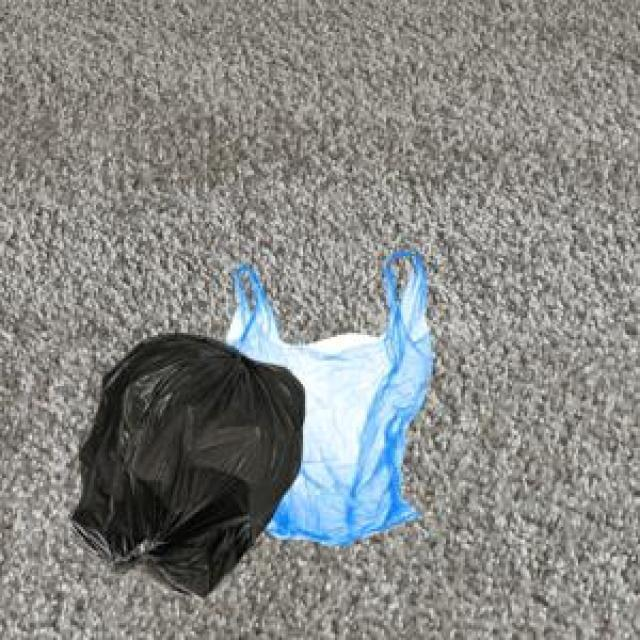miscellaneous trash: (64, 329, 301, 595)
